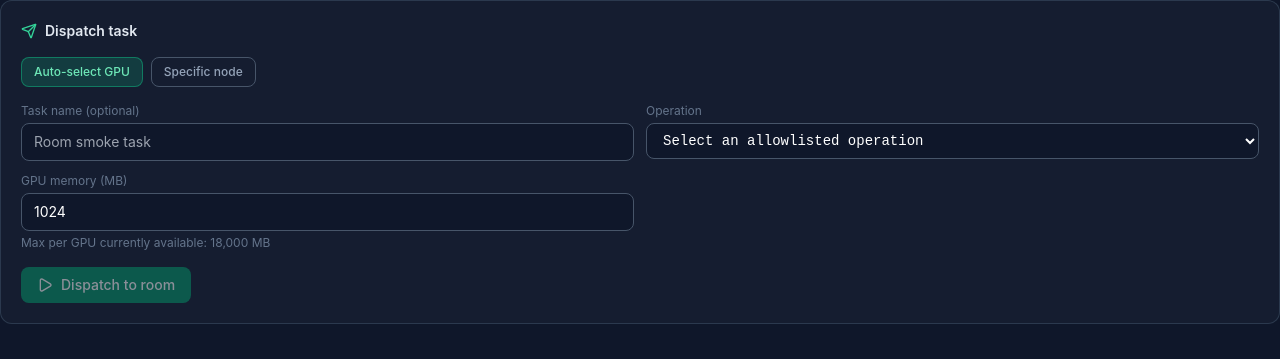
Test case: RoomDispatchPanel › shows required-field feedback for an empty operation on blur
Click the dropdown labelled "Operation" at (952, 141), box [646,123,1259,159]
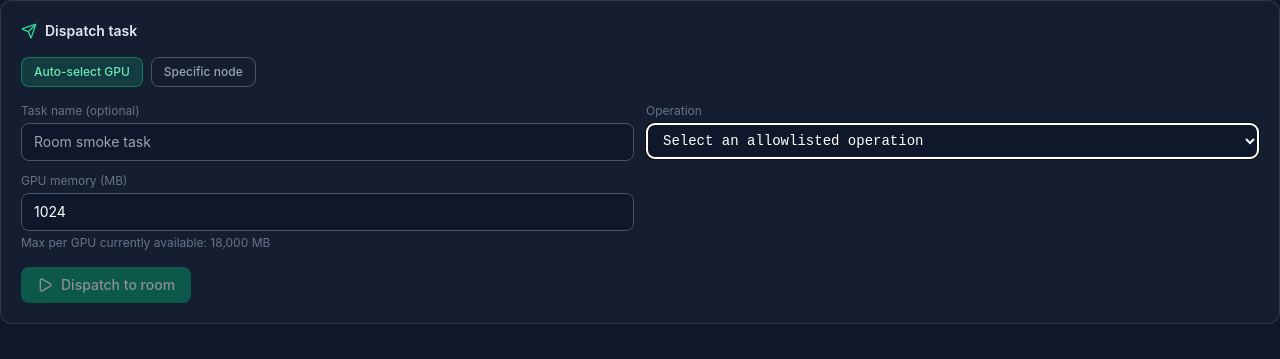
Press Tab
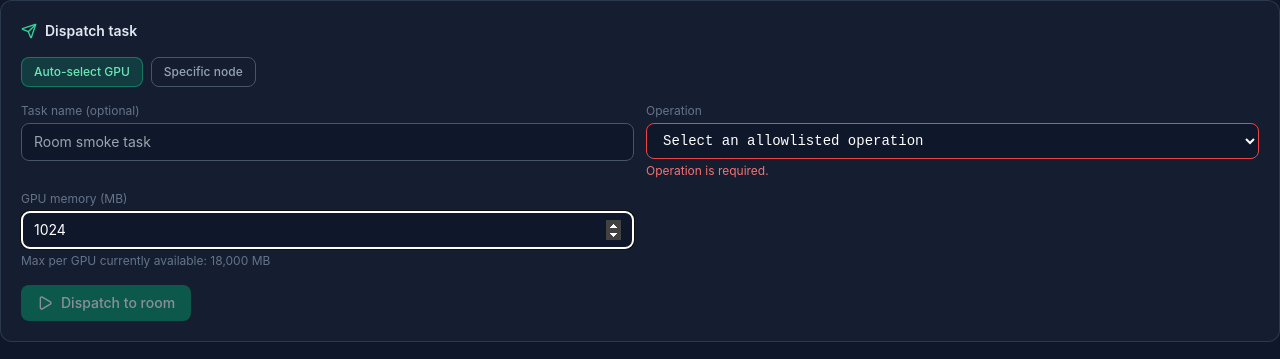
Now the text "Operation is required." is shown, box [646,163,769,178]
